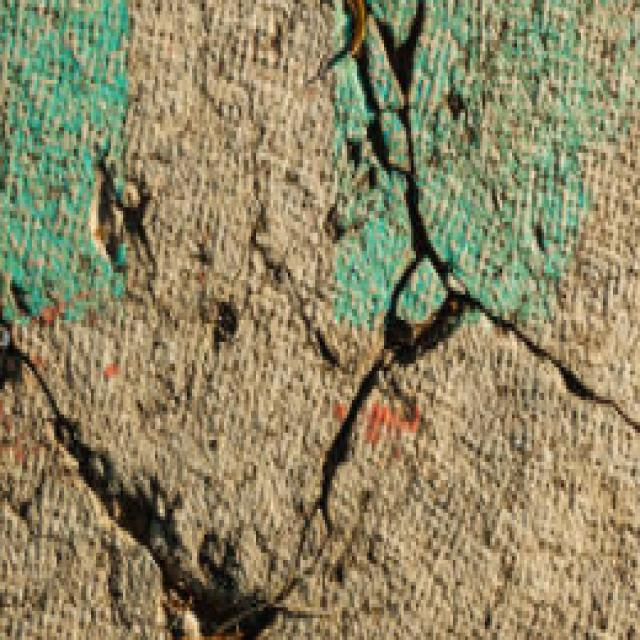branched cracks: (299, 0, 639, 551), (0, 336, 287, 639)
